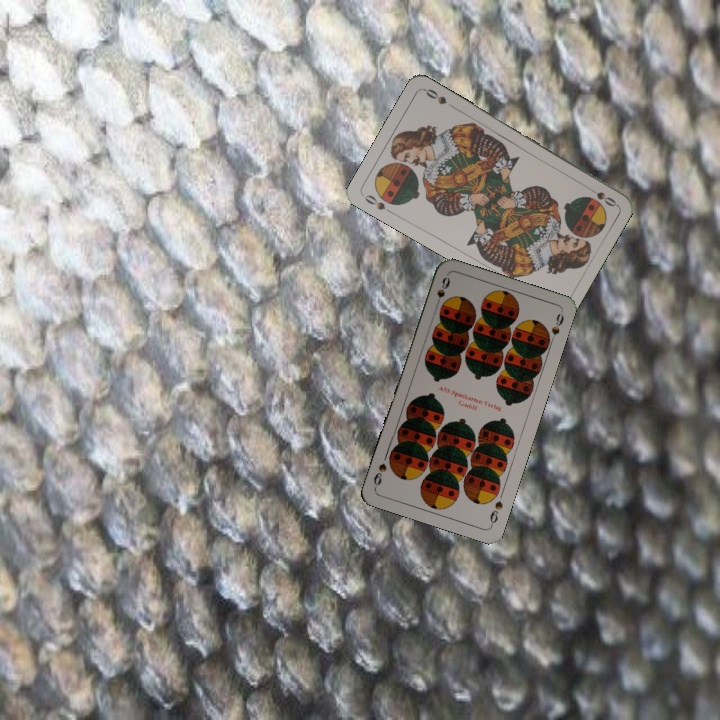S9: (431, 273, 452, 312), (486, 497, 505, 528)
SO: (582, 182, 619, 209), (360, 190, 396, 217)
